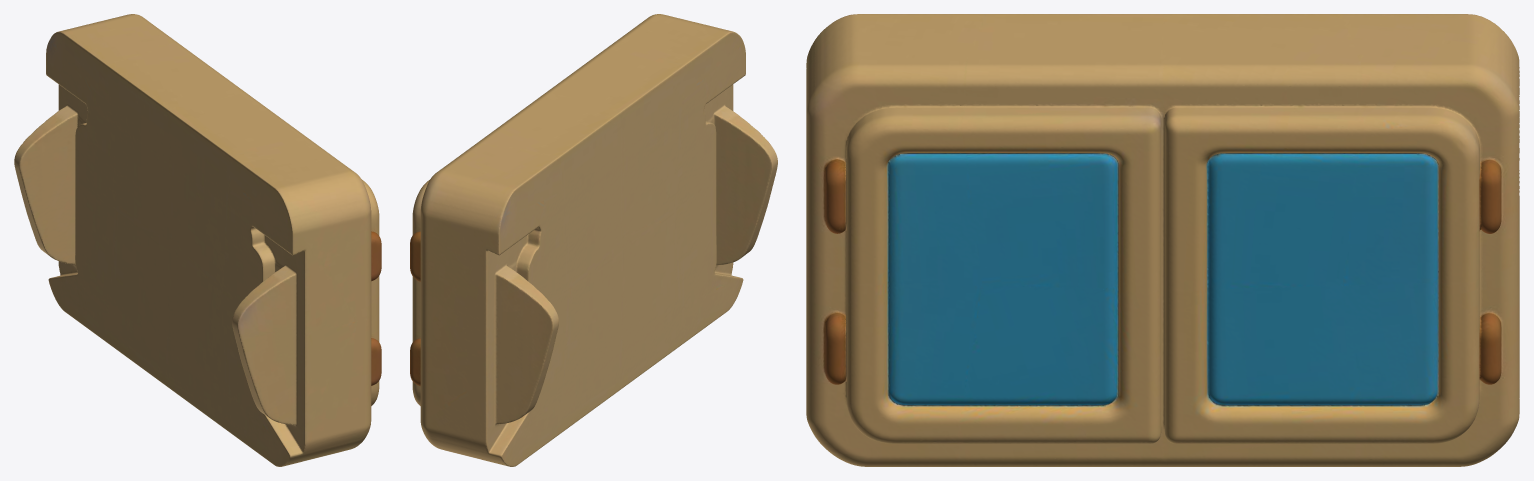
Rendered from WindowClosed.glb.
3 views of the same model, side by side, from view 1: azimuth 30°, elevation 25°; view 2: azimuth 150°, elevation 25°; view 3: azimuth 270°, elevation 25° (orthographic). The views are drawn at different scales.
Parts seen in each view (by area): view 1: tripo_node_3dbe8fd8-99bb-4e6d-ad1f-52730c96d46e; view 2: tripo_node_3dbe8fd8-99bb-4e6d-ad1f-52730c96d46e; view 3: tripo_node_3dbe8fd8-99bb-4e6d-ad1f-52730c96d46e.
Part boxes in pixels (<box>): tripo_node_3dbe8fd8-99bb-4e6d-ad1f-52730c96d46e: <box>14,14,381,466</box>; tripo_node_3dbe8fd8-99bb-4e6d-ad1f-52730c96d46e: <box>410,14,777,466</box>; tripo_node_3dbe8fd8-99bb-4e6d-ad1f-52730c96d46e: <box>806,14,1519,466</box>.
Size of the model in its own units: 0.3453 by 0.6206 by 1.
Materials: 1 (1 with a texture image).
